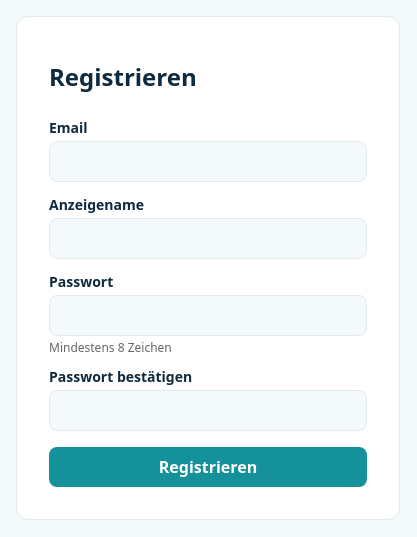
RegisterPage › disables the submit button while the request is pending
The image size is (417, 537).
Type "new@test.de" into the field labelled "Email" at (208, 162), box [49,141,367,182]
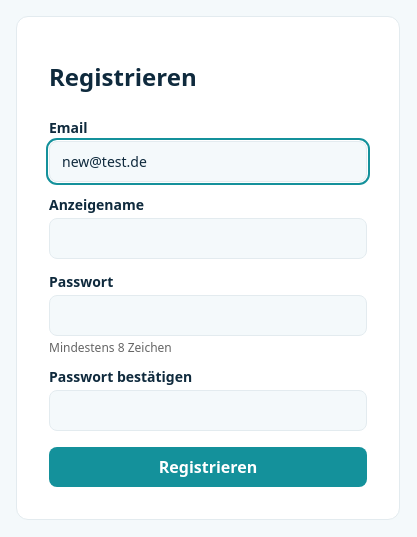
Type "Test" into the field labelled "Anzeigename" at (208, 239), box [49,218,367,259]
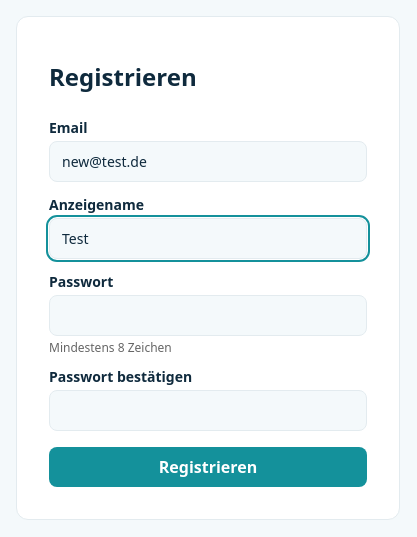
Type "Test1234!" into the password field labelled "Passwort" at (208, 316), box [49,295,367,336]
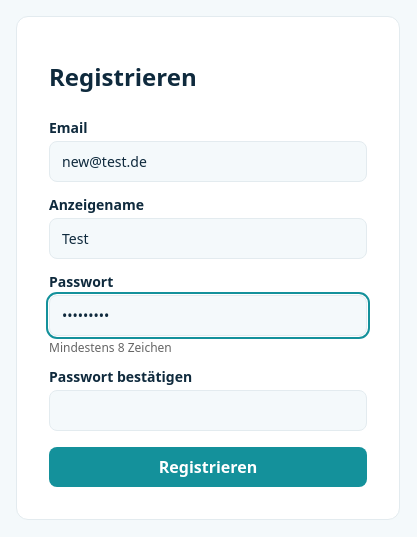
Type "Test1234!" into the password field labelled "Passwort bestätigen" at (208, 411), box [49,390,367,431]
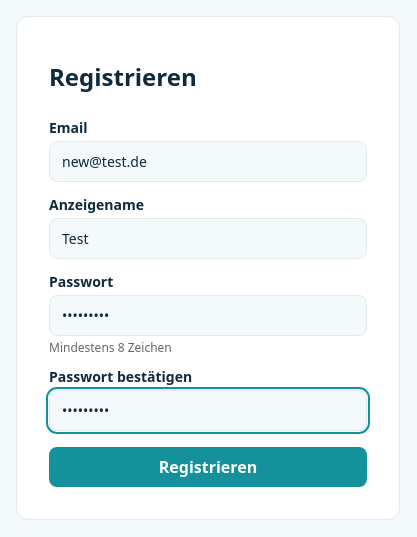
Click the button "Registrieren" at (208, 467), box [49,447,367,487]
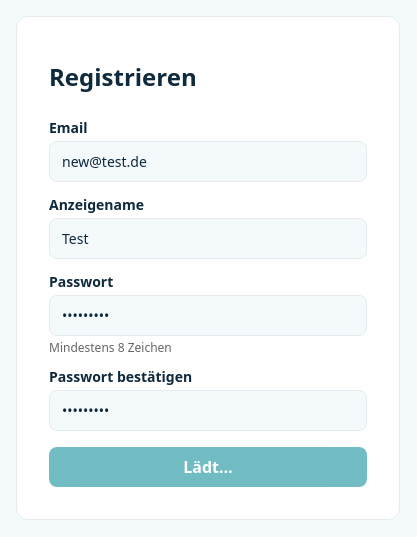
Expected: the button "Lädt…" is disabled, [49,447,367,487]
